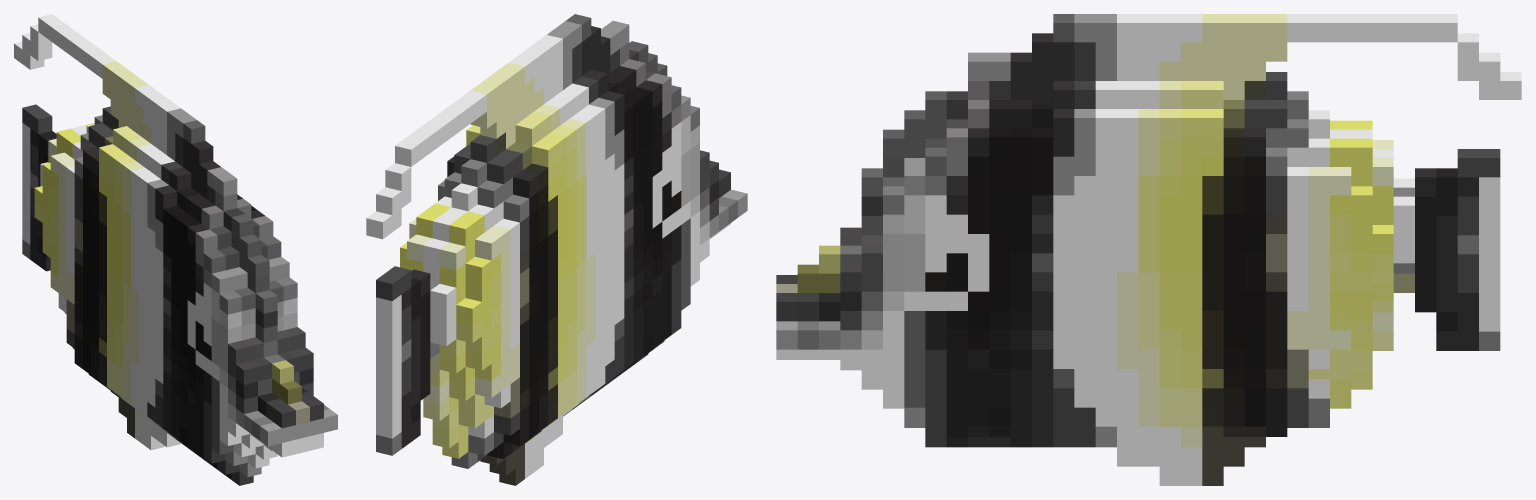
Rendered from moorish idol.obj.
3 renders of one model, left to right at view 1: azimuth 30°, elevation 25°; view 2: azimuth 150°, elevation 25°; view 3: azimuth 270°, elevation 25°, orthographic. The views are drawn at different scales.
Size of the model in its own units: 0.5 by 2.4 by 3.5.
1 material, 1 textured.
